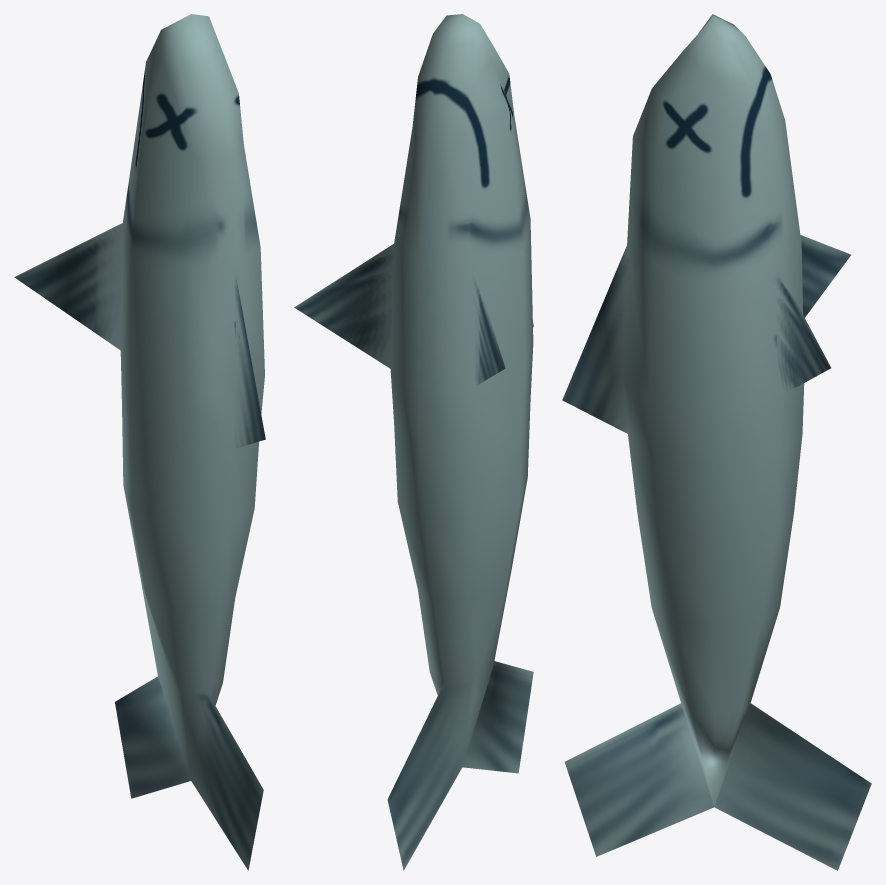
Rendered from Fish.glb.
The picture shows the model from 3 angles, left to right: view 1: azimuth 30°, elevation 25°; view 2: azimuth 150°, elevation 25°; view 3: azimuth 270°, elevation 25°; orthographic projection. The views are drawn at different scales.
Parts seen in each view (by area): view 1: Fish; view 2: Fish; view 3: Fish.
Part boxes in pixels (box(x1,y1,x2,y2)): Fish: box(14, 14, 265, 870); Fish: box(294, 14, 533, 870); Fish: box(562, 14, 871, 870).
Bounding box in the file's own units: 2.95 × 10.39 × 3.41.
Materials: 1 (1 with a texture image).
